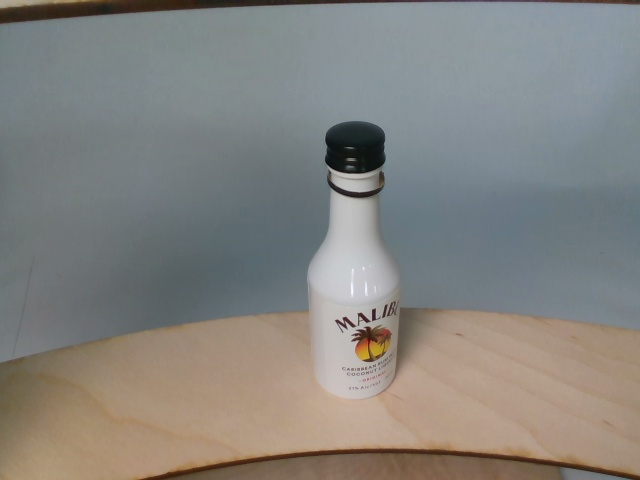tequila: (304, 117, 405, 401)
